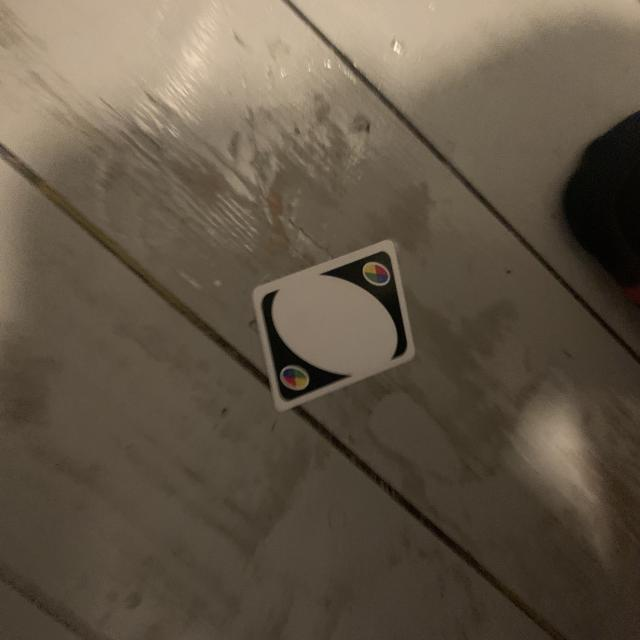lcolor-40: (360, 255, 395, 293)
